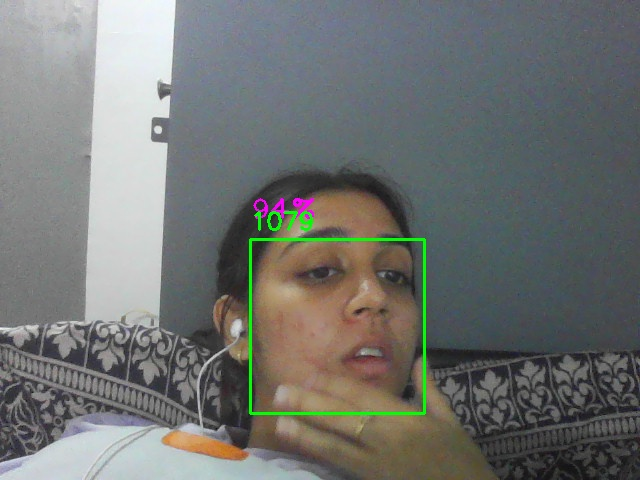real: (250, 239, 425, 414)
